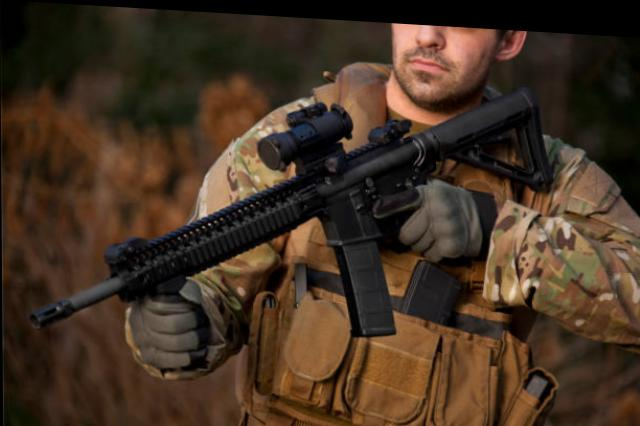other: (133, 8, 637, 424)
